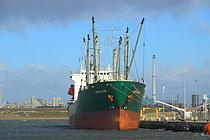Ship: (61, 13, 152, 133)
